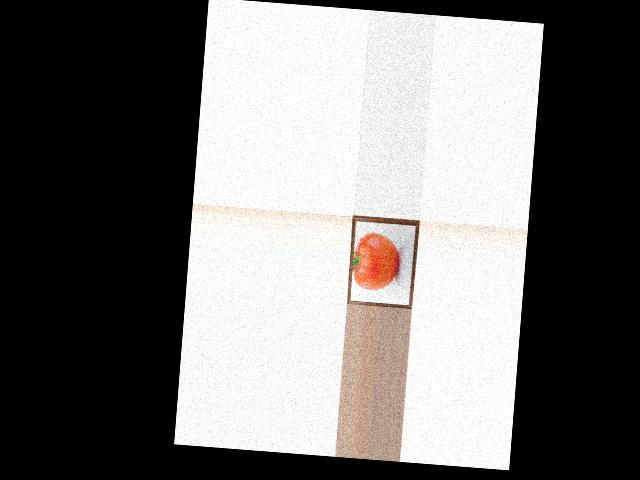tomato: (350, 231, 401, 291)
